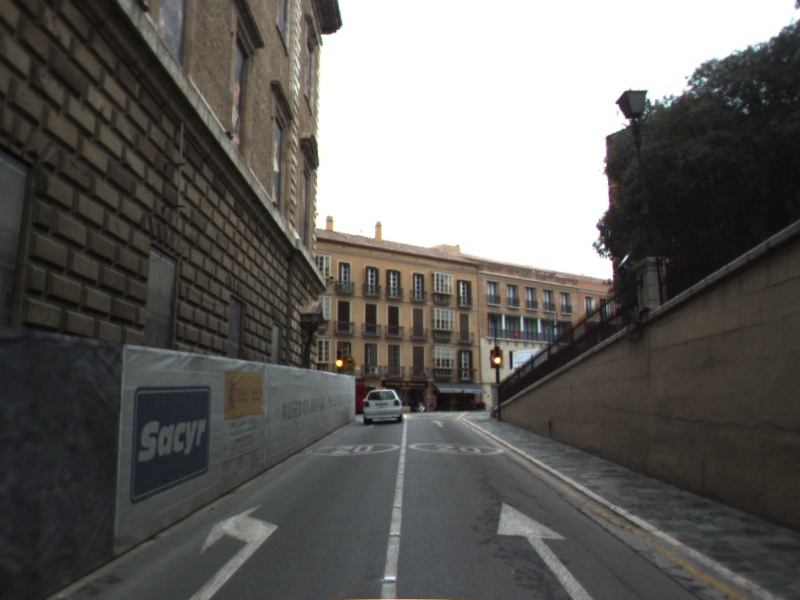LEFT: (187, 502, 279, 600)
STRAIGHT: (494, 500, 598, 600), (429, 418, 448, 429)
